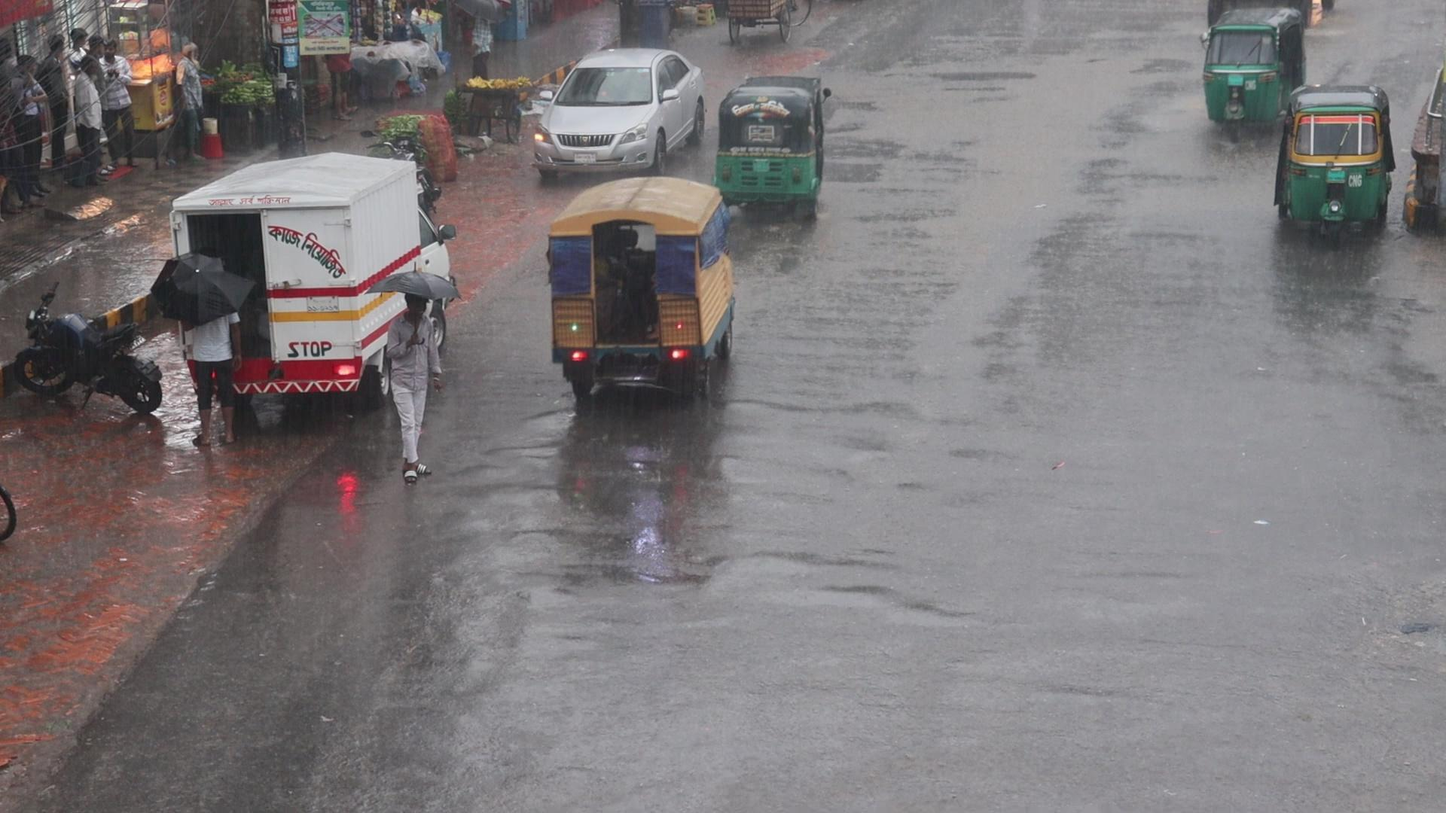Car: (531, 49, 708, 172)
Truck: (545, 174, 737, 413)
